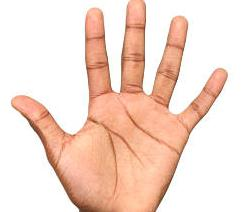non-diseased: (8, 1, 231, 206)
